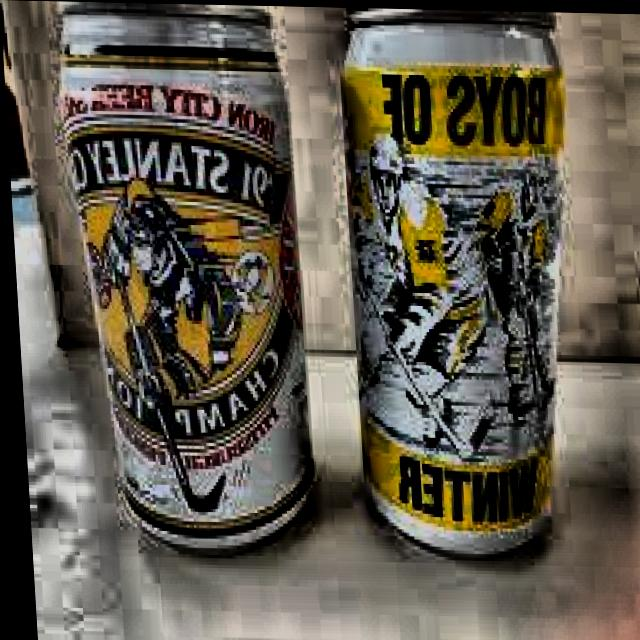can: (49, 1, 320, 566), (331, 6, 592, 564)
